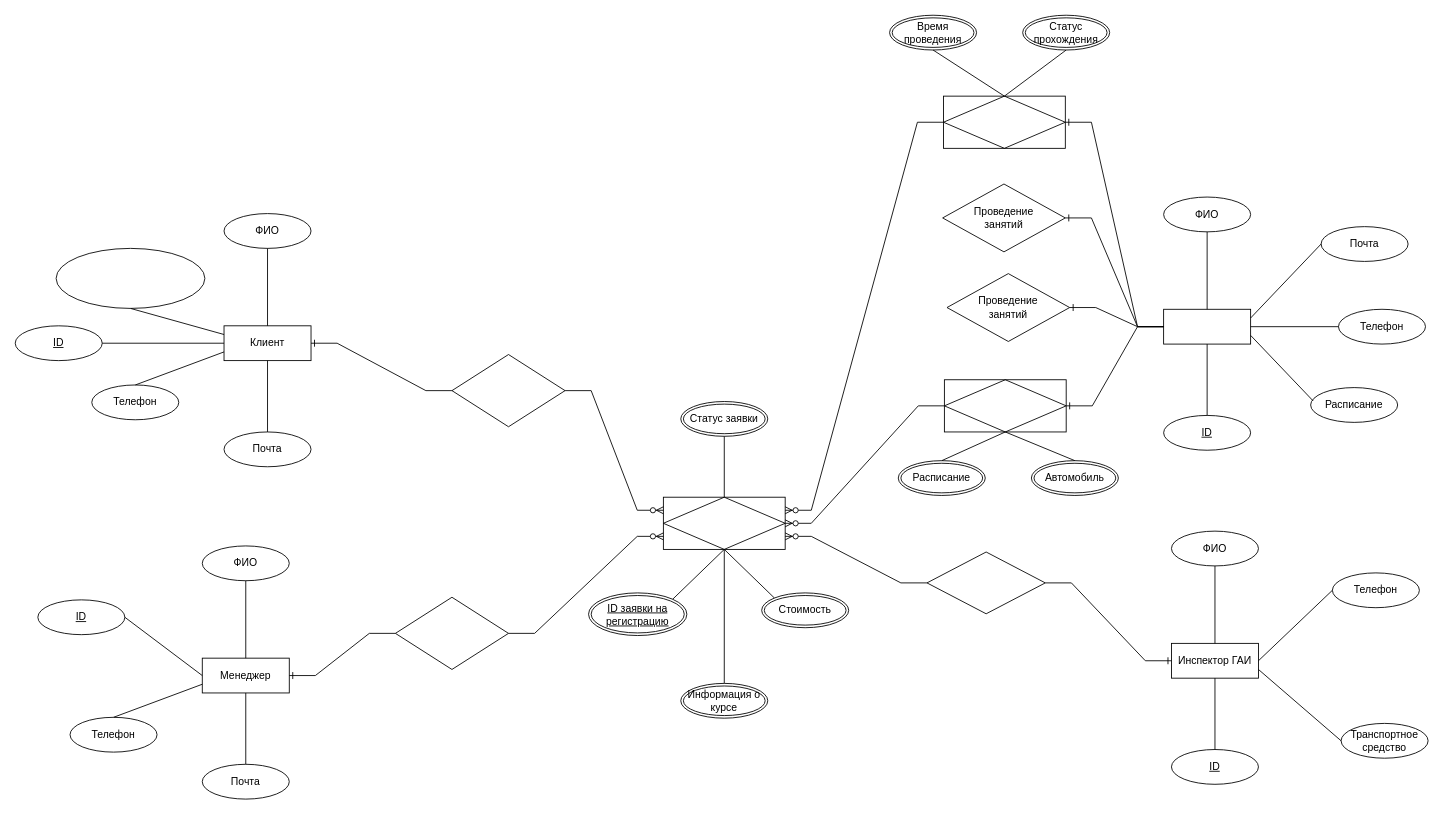
Some shapes in this 1443 by 814 pixel diagram are drawn without their labels. Here are the shapes that lost their labels. From the top down, the centre of each, then its label:
At point 1004,121: "Теория".
At point 130,278: "Информация о желаемой категории водительского удостоверения".
At point 1207,326: "Преподаватель".
At point 508,390: "Заявка на регистрацию на курс".
At point 1005,405: "Практика".
At point 724,522: "Курс".
At point 985,582: "Проведение экзамена".
At point 452,632: "Обработка заявки на регистрацию".
